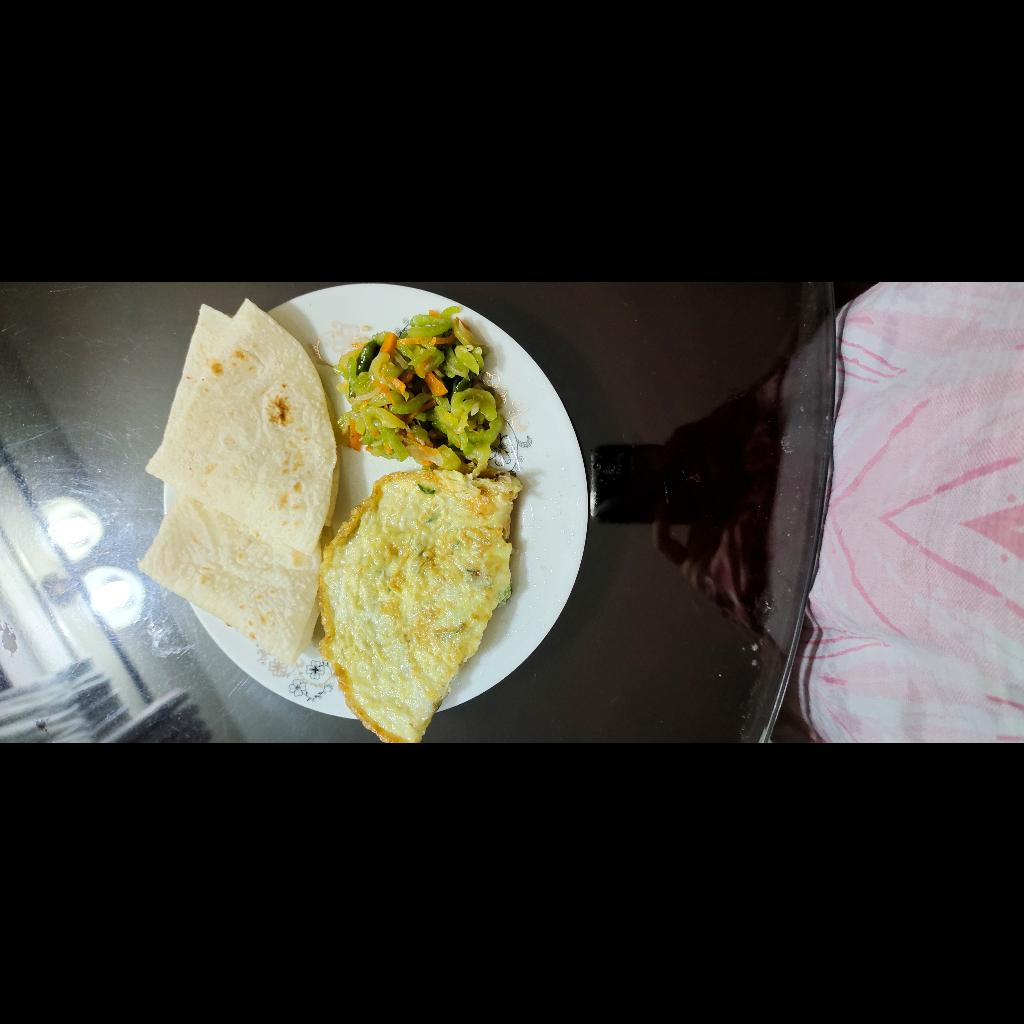chichinga-vaji: (271, 621, 439, 782)
egg-poached: (0, 600, 272, 800)
ruti: (77, 412, 442, 617)
